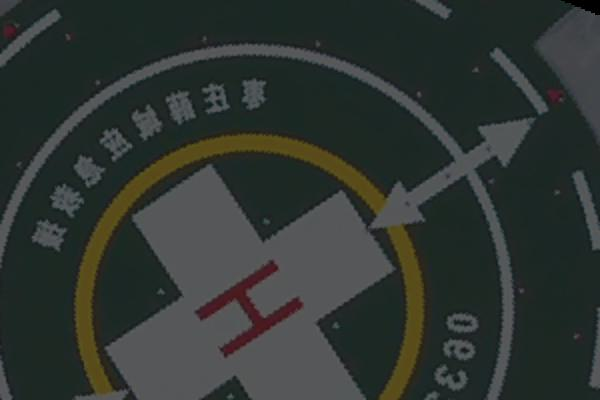Apron: (71, 127, 425, 400)
